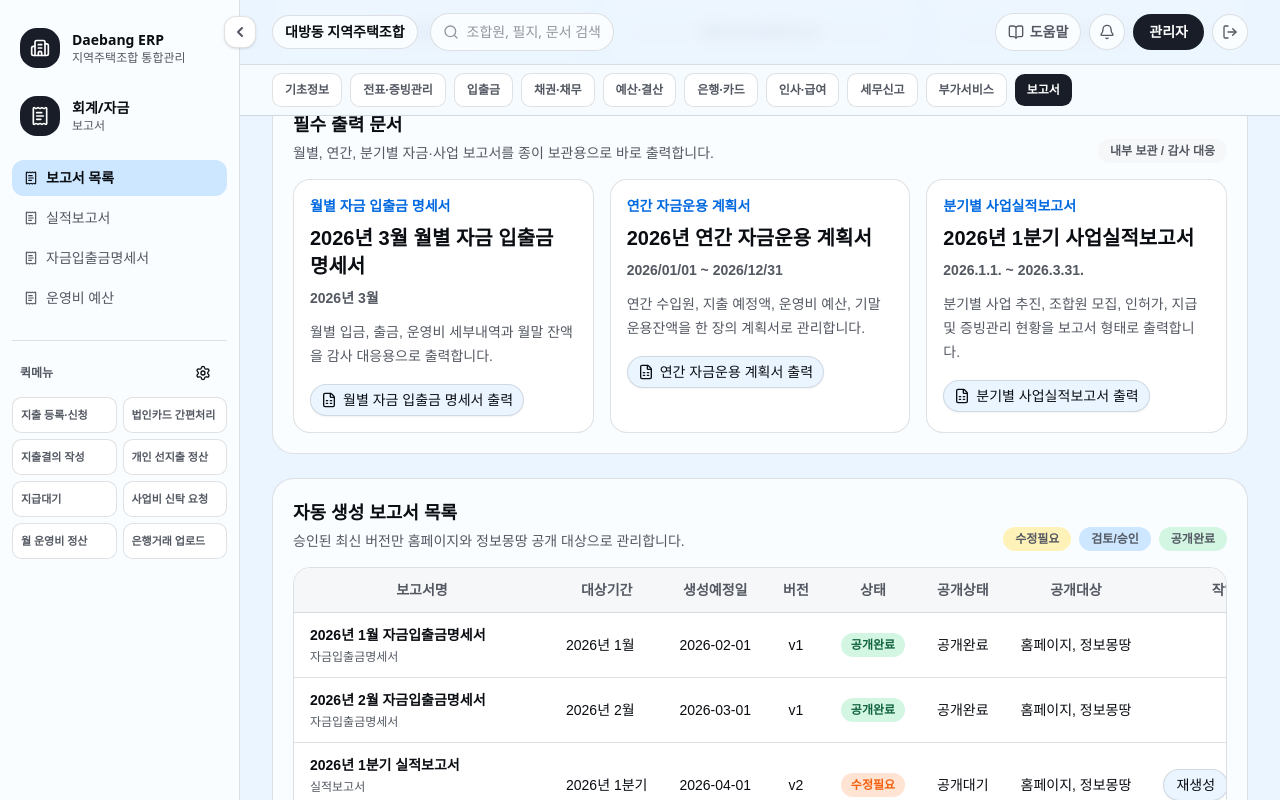
ReportsPage › opens printable statutory fund report documents from the report overview
(page scrolled)
What coordinates should you click on to do the following:
click the button "월별 자금 입출금 명세서 출력"
I would click on:
 (417, 400)
Its box is left=310, top=384, right=524, bottom=416.
(page scrolled)
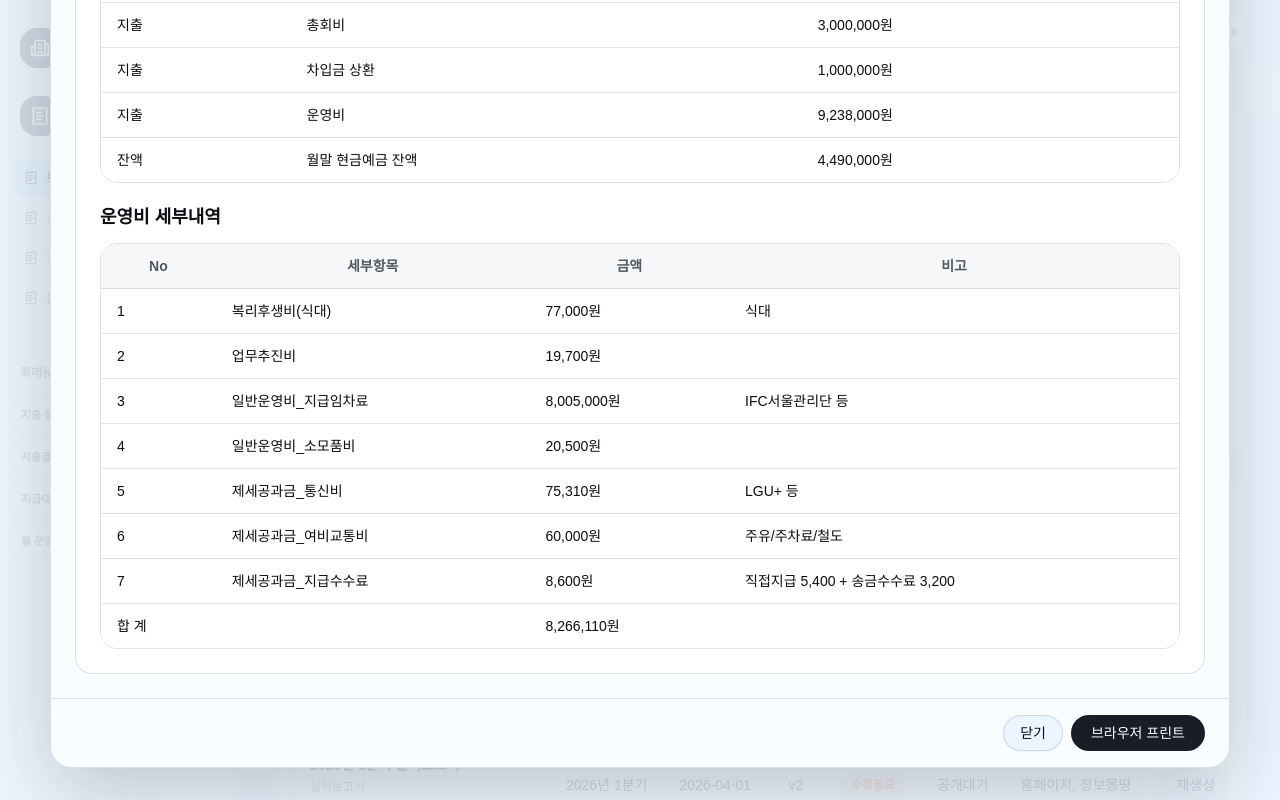
Check: the heading "운영비 세부내역" is shown, box left=100, top=203, right=221, bottom=231
Check: the button "브라우저 프린트" is shown, box left=1071, top=715, right=1205, bottom=751
What coordinates should you click on to do the following:
click the button "닫기"
I would click on:
 (1033, 733)
Its box is left=1003, top=715, right=1063, bottom=751.
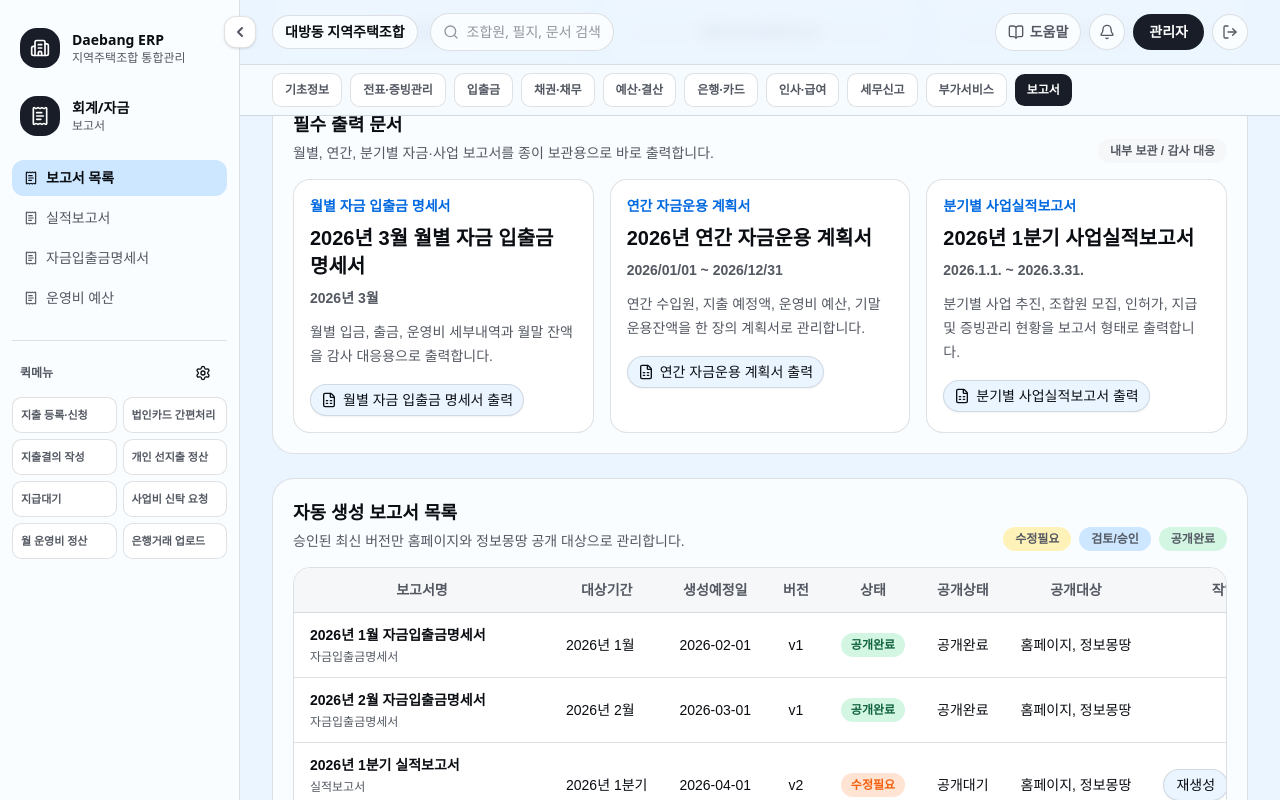
What coordinates should you click on to do the following:
click the button "연간 자금운용 계획서 출력"
I would click on:
 (725, 372)
Its box is left=627, top=356, right=824, bottom=388.
(page scrolled)
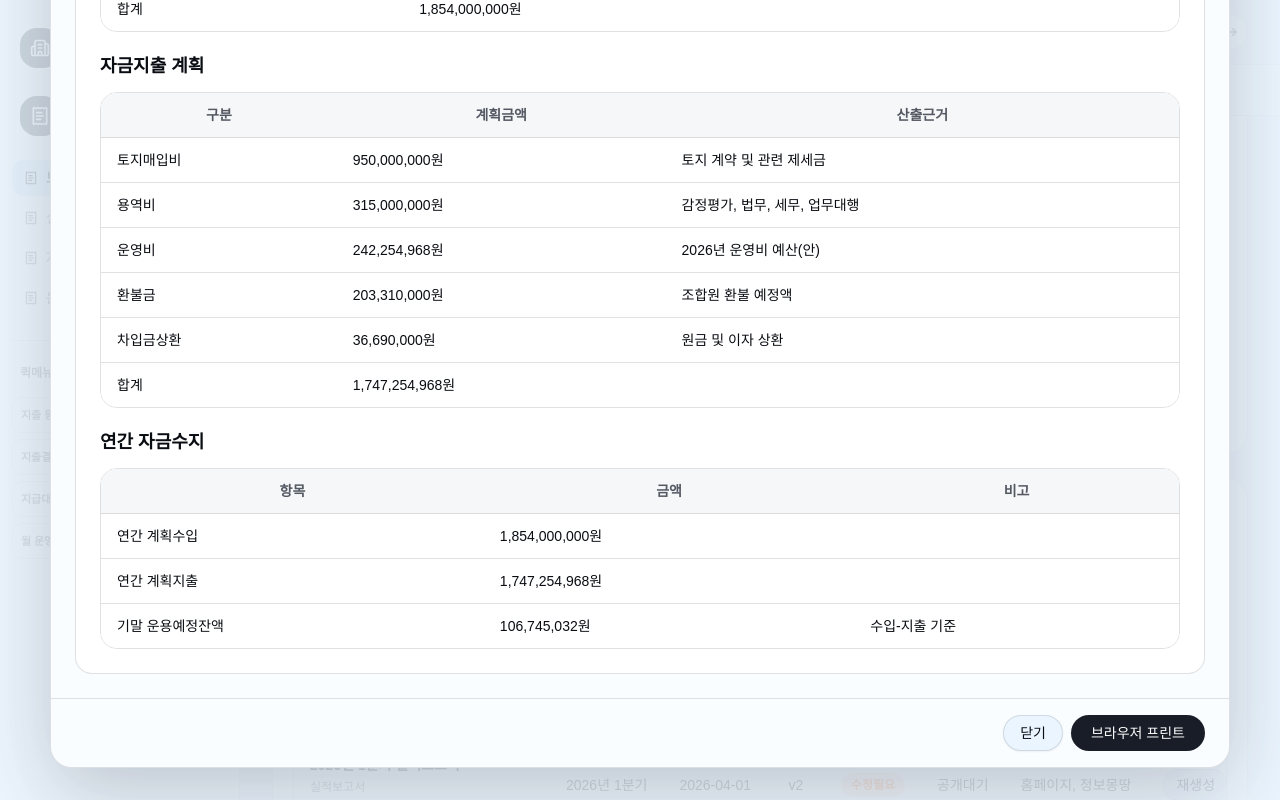
Check: the text "토지매입비" is shown, box left=101, top=138, right=337, bottom=182
Check: the heading "연간 자금수지" is shown, box left=100, top=428, right=204, bottom=456
What coordinates should you click on to do the following:
click the button "닫기"
I would click on:
 (1033, 733)
Its box is left=1003, top=715, right=1063, bottom=751.
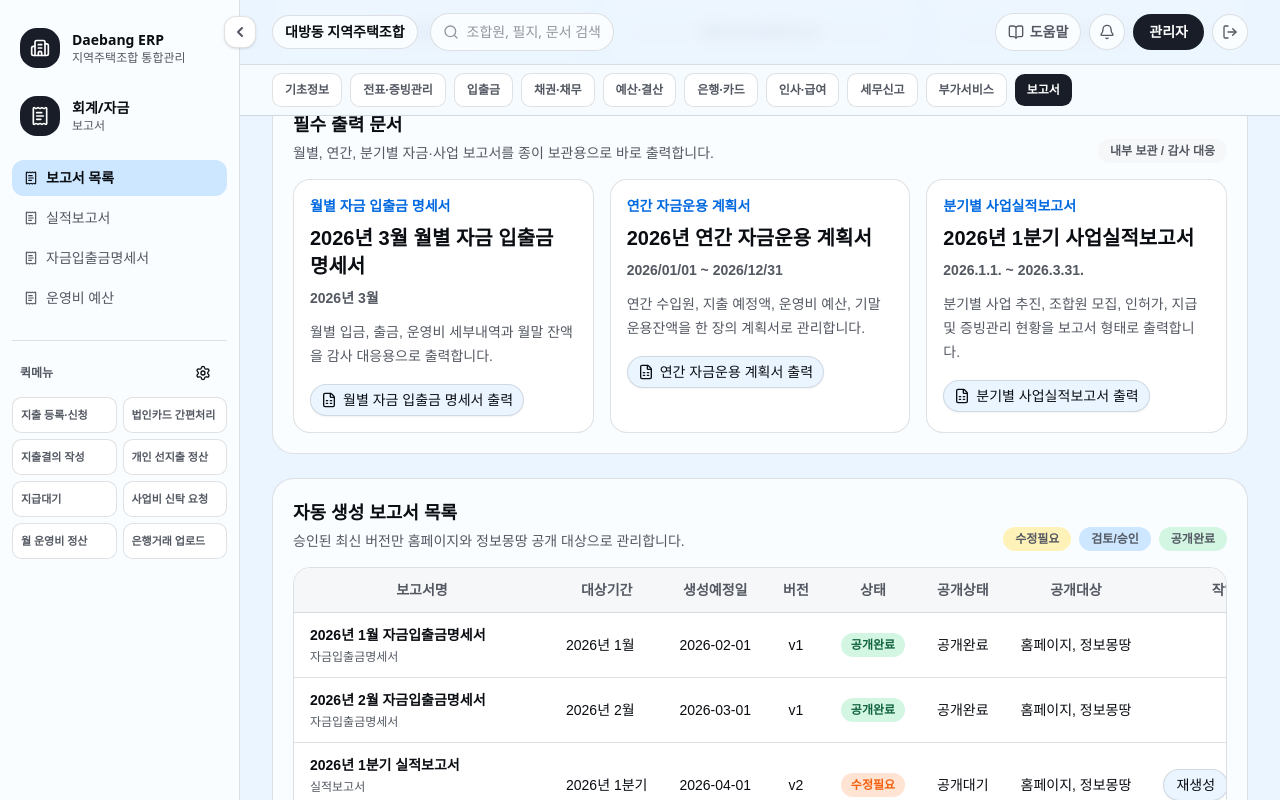
What coordinates should you click on to do the following:
click the button "분기별 사업실적보고서 출력"
I would click on:
 (1046, 396)
Its box is left=943, top=380, right=1150, bottom=412.
(page scrolled)
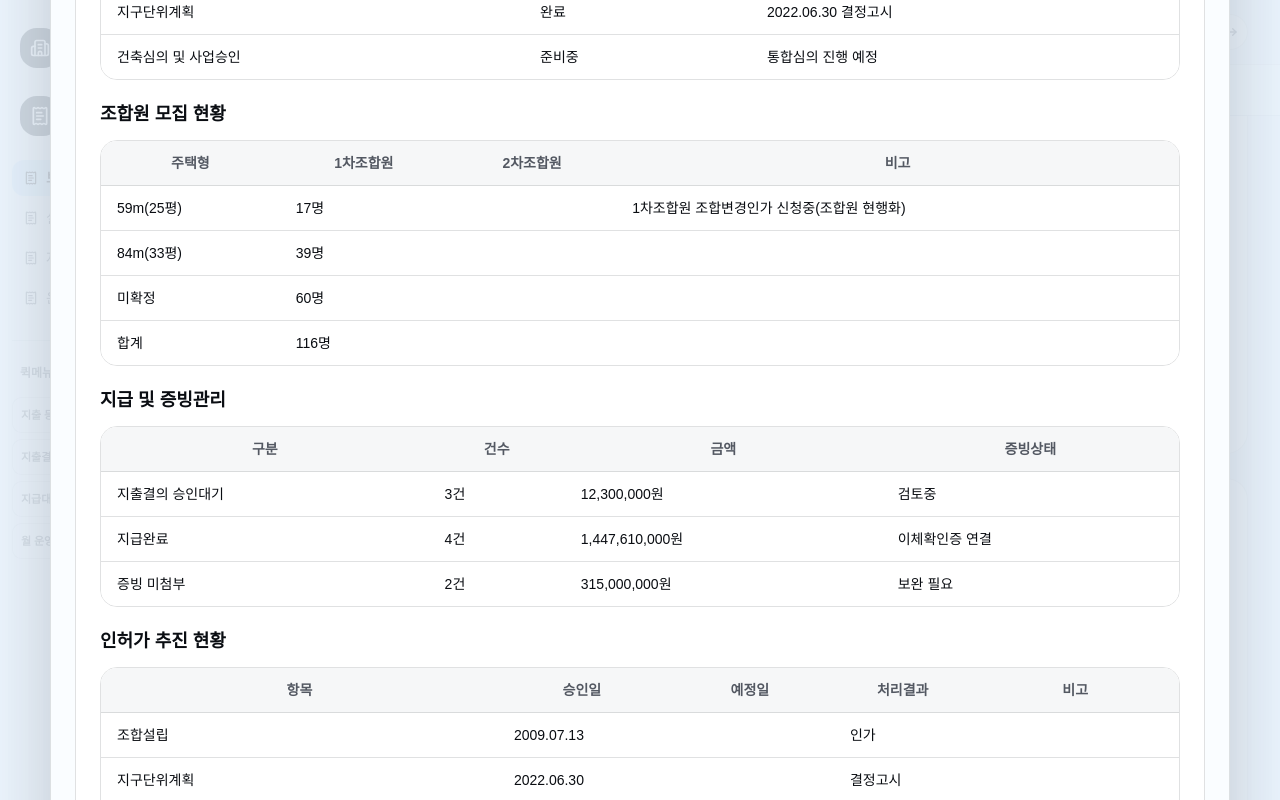
Check: the heading "조합원 모집 현황" is shown, box left=100, top=100, right=226, bottom=128
Check: the heading "지급 및 증빙관리" is shown, box left=100, top=386, right=226, bottom=414
